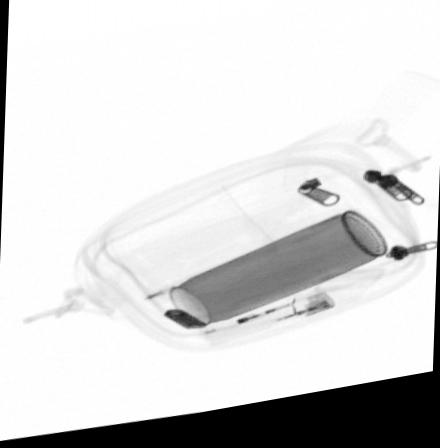Lighter: (197, 297, 334, 354)
